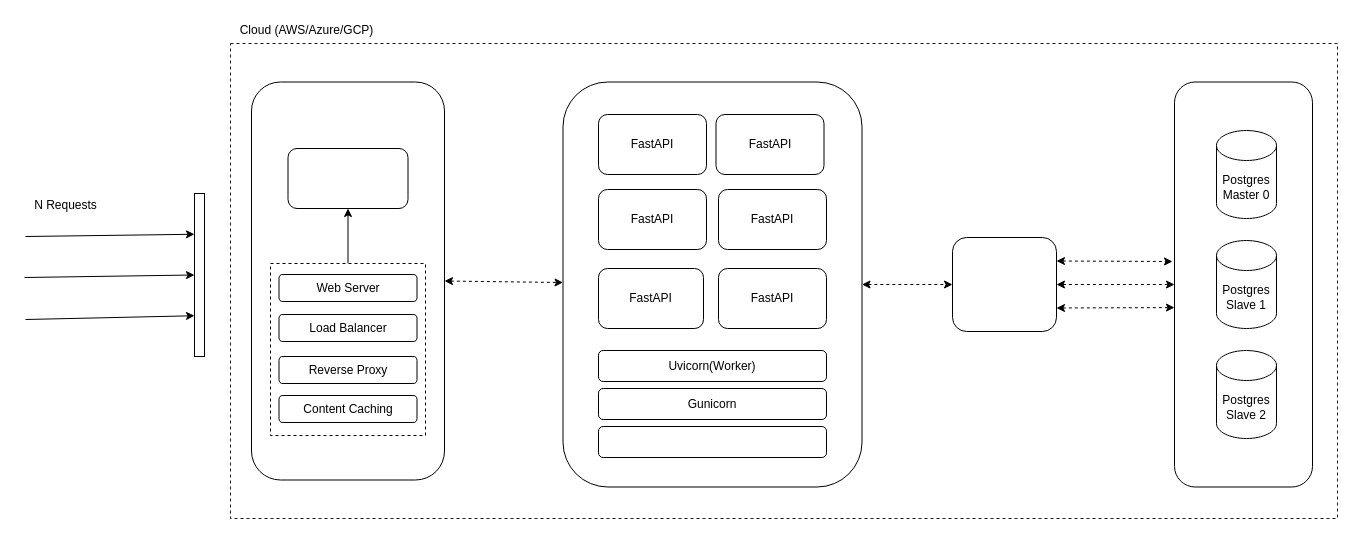
This 1355x544 diagram has some shape labels left out. The box of each missing label's shape, as (x1, y1, x2, y2) in pixels:
NGINX: (287, 148, 408, 208)
PgPool2: (952, 236, 1056, 332)
Supervisor: (598, 426, 826, 458)
